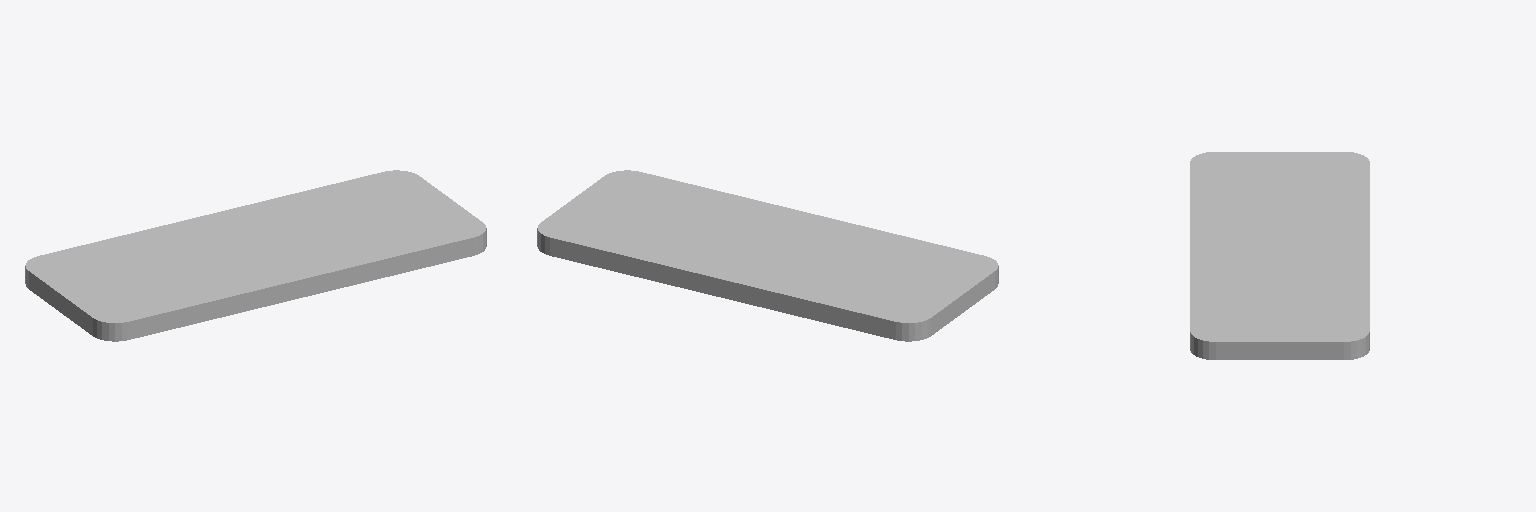
Rendered from original-38.obj.
3 renders of one model, left to right at view 1: azimuth 30°, elevation 25°; view 2: azimuth 150°, elevation 25°; view 3: azimuth 270°, elevation 25°, orthographic.
Parts seen in each view (by area): view 1: mesh37/mesh37-geometry#mesh37-geometry; view 2: mesh37/mesh37-geometry#mesh37-geometry; view 3: mesh37/mesh37-geometry#mesh37-geometry.
Boxes of the visible parts, box(x1,y1,x2,y2) form: mesh37/mesh37-geometry#mesh37-geometry: box(25, 170, 486, 341); mesh37/mesh37-geometry#mesh37-geometry: box(537, 170, 998, 341); mesh37/mesh37-geometry#mesh37-geometry: box(1190, 152, 1369, 359).
Size of the model in its own units: 0.1422 by 0.0064 by 0.0568.